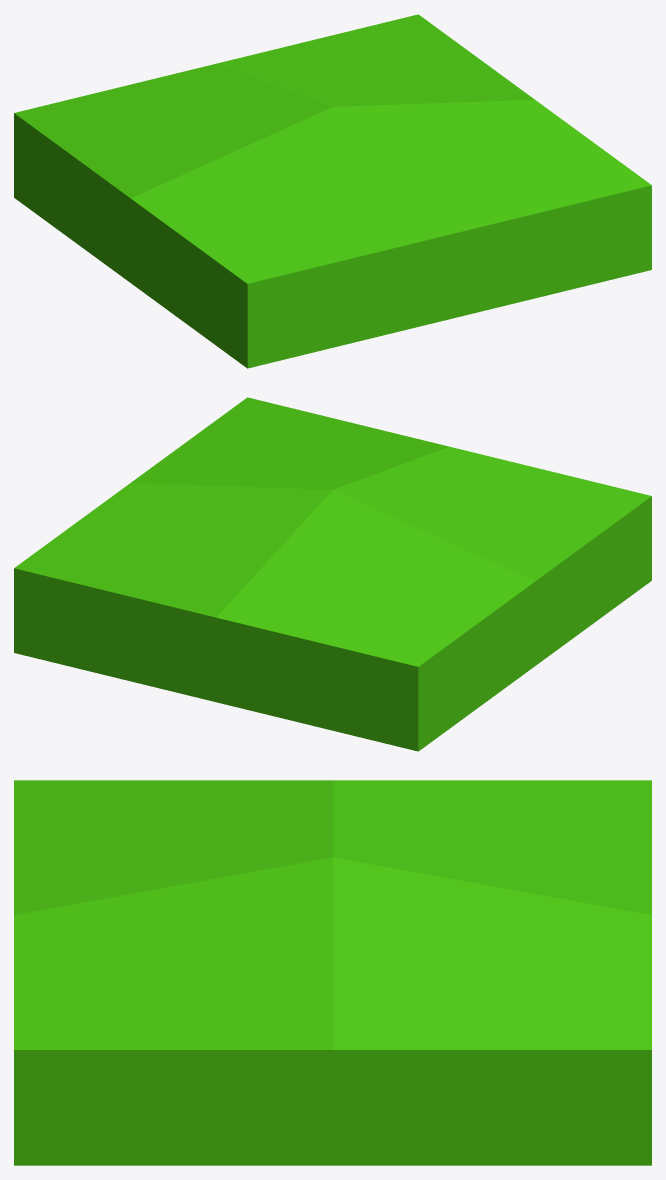
The model's file is GrassPlate.fbx.
3 renders of one model, top to bottom at view 1: azimuth 30°, elevation 25°; view 2: azimuth 150°, elevation 25°; view 3: azimuth 270°, elevation 25°, orthographic. The views are drawn at different scales.
Visible parts, largest first — view 1: Cube; view 2: Cube; view 3: Cube.
Part boxes in pixels (bbox=[...]): Cube: bbox=[14, 14, 651, 368]; Cube: bbox=[14, 397, 651, 751]; Cube: bbox=[14, 780, 651, 1165].
Size of the model in its own units: 500 by 150 by 500.
